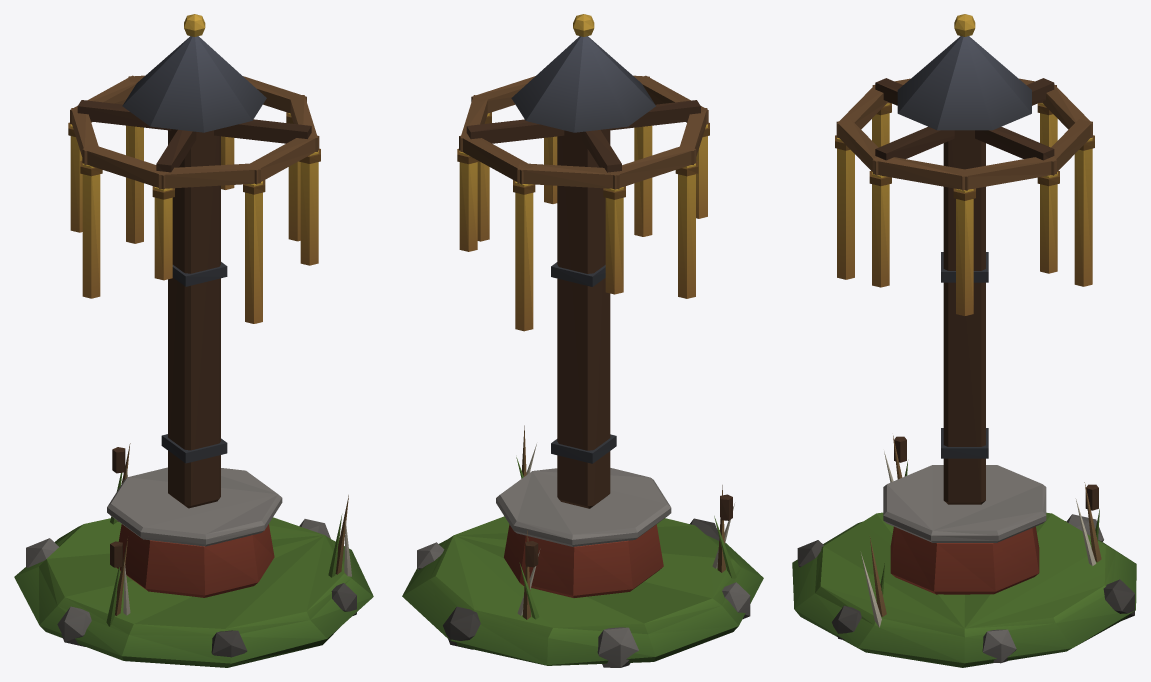
File: chime_post.glb
3 views of the same model, side by side, from view 1: azimuth 30°, elevation 25°; view 2: azimuth 150°, elevation 25°; view 3: azimuth 270°, elevation 25° (orthographic).
Parts seen in each view (by area): view 1: chime_post; view 2: chime_post; view 3: chime_post.
Boxes of the visible parts, x1,y1,x2,y2 form: chime_post: (14,14,373,667); chime_post: (402,14,763,667); chime_post: (792,14,1136,667).
Bounding box in the file's own units: 0.9387 × 1.69 × 0.899.
